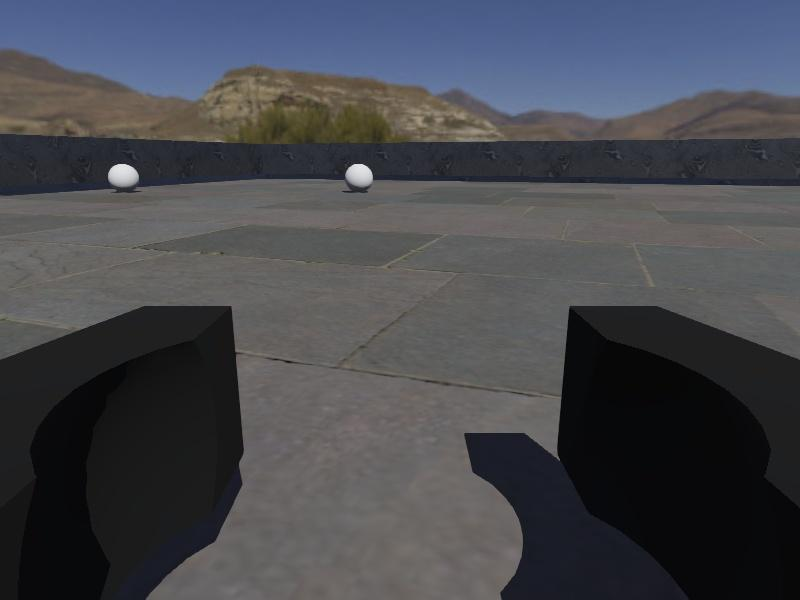white ball: (107, 162, 140, 192), (345, 162, 375, 192)
